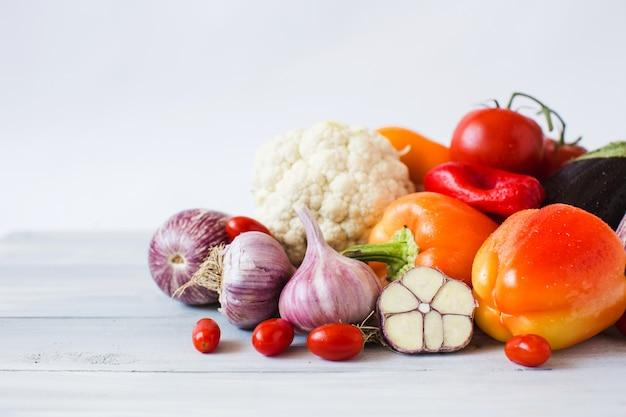garlic: (272, 214, 408, 314)
orange: (368, 191, 497, 280)
